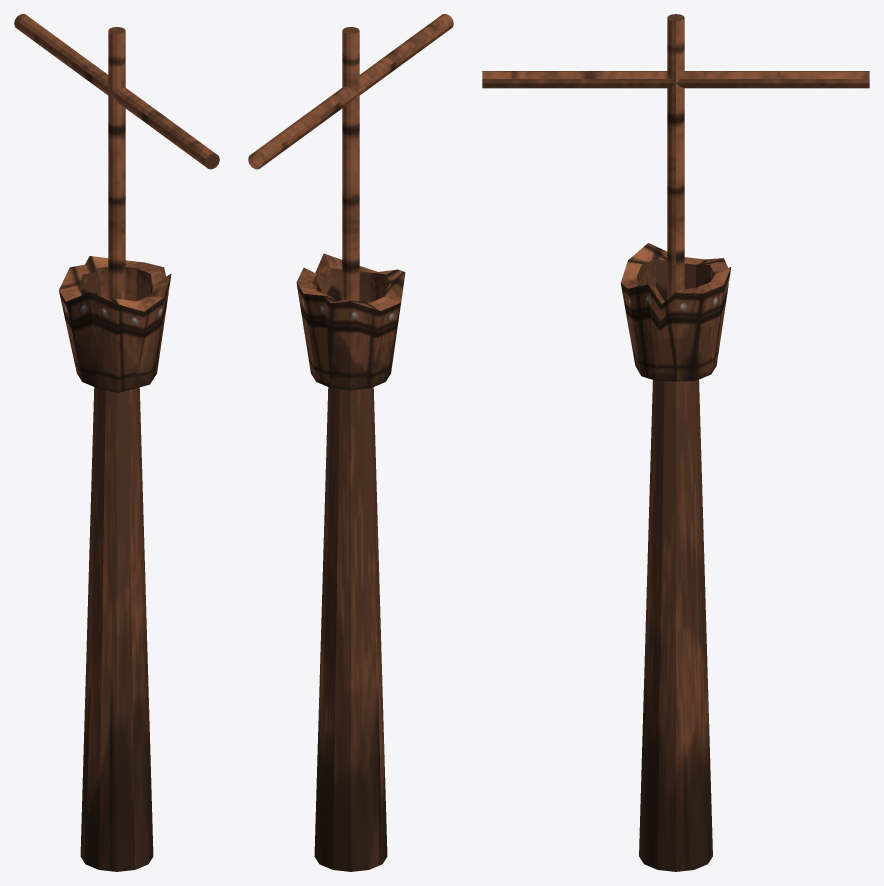
Rendered from crows_nest.glb.
3 renders of one model, left to right at view 1: azimuth 30°, elevation 25°; view 2: azimuth 150°, elevation 25°; view 3: azimuth 270°, elevation 25°, orthographic.
Parts seen in each view (by area): view 1: Cylinder; view 2: Cylinder; view 3: Cylinder.
Part boxes in pixels (<box>): Cylinder: <box>14,14,219,871</box>; Cylinder: <box>248,14,453,871</box>; Cylinder: <box>482,14,869,871</box>.
Size of the model in its own units: 2.41 by 19.53 by 8.18.
Materials: 1 (1 with a texture image).
